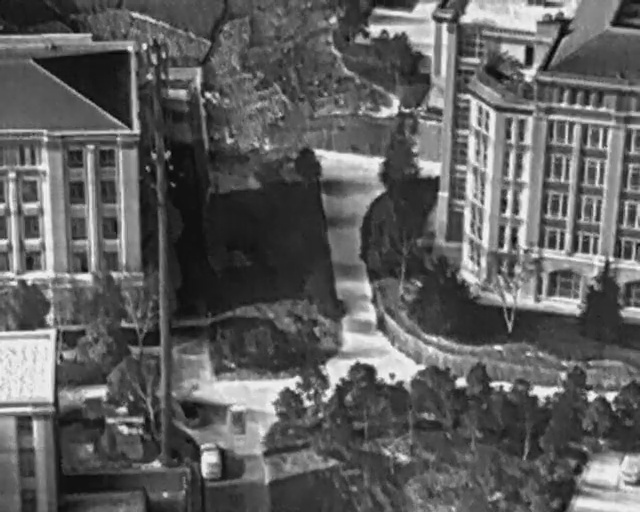Car: (197, 442, 222, 482), (226, 403, 247, 435)
